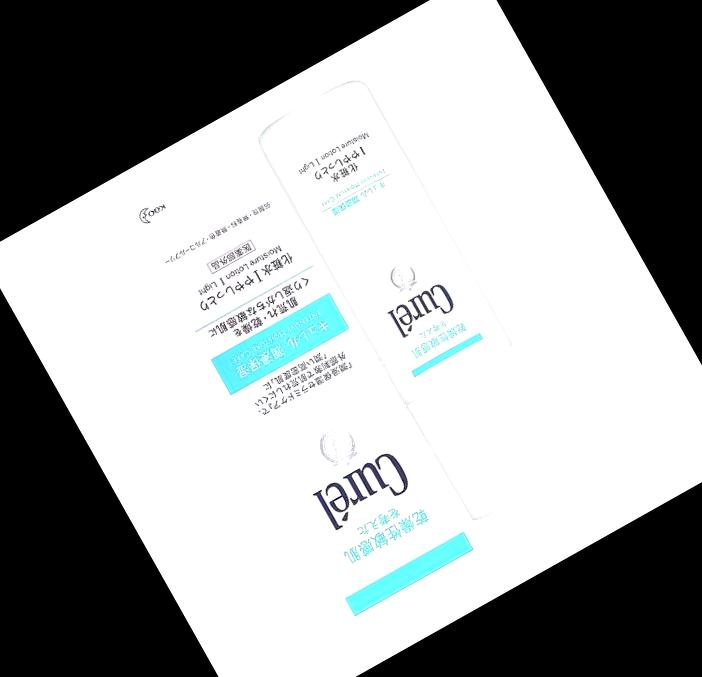cosmetic: (255, 82, 579, 525)
